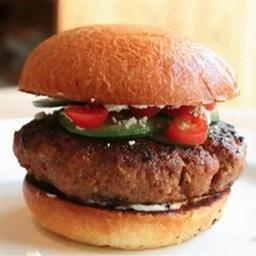background: (5, 8, 99, 100)
